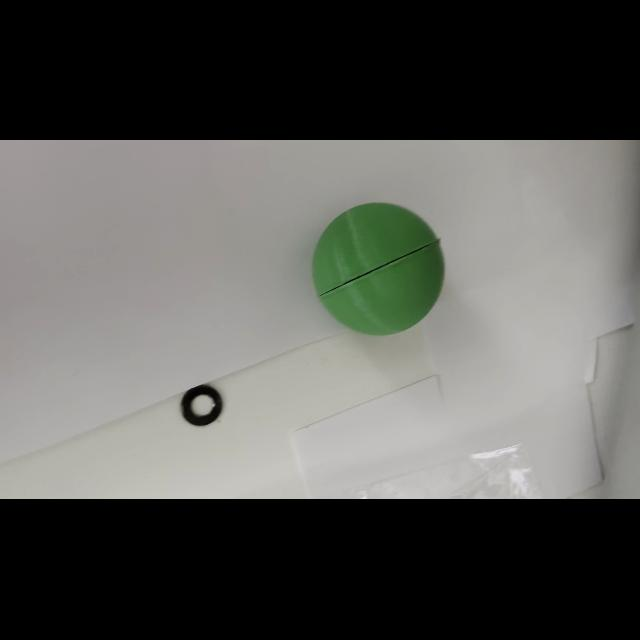objects: (308, 197, 450, 337)
